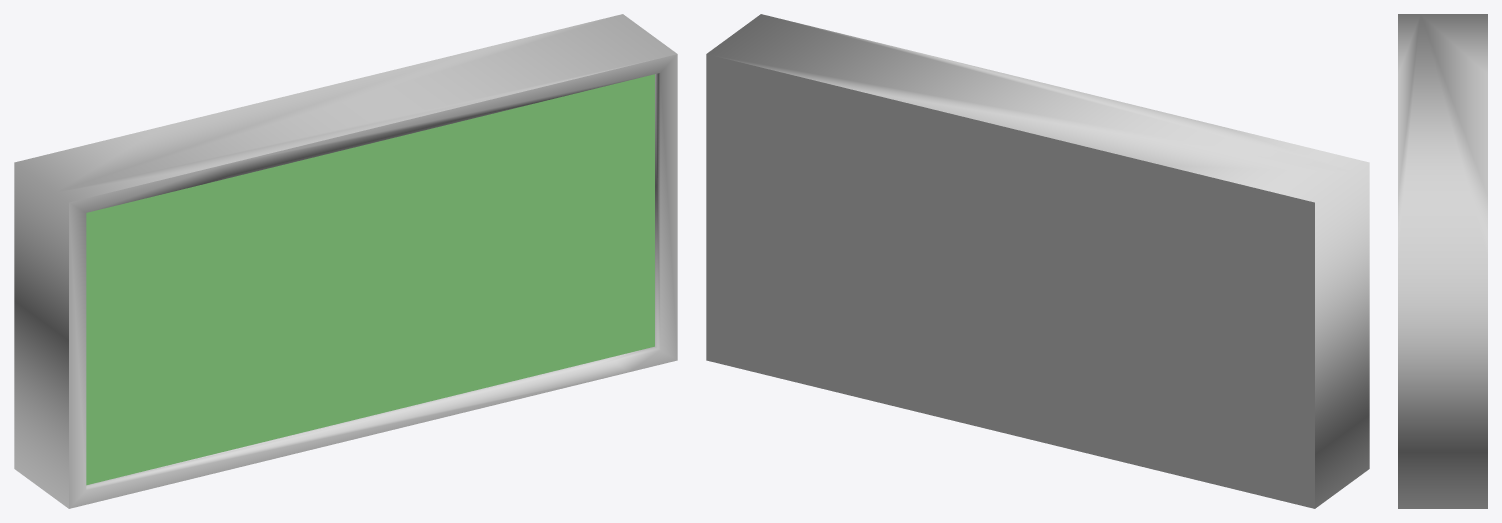
File: ExitSign.fbx
3 renders of one model, left to right at view 1: azimuth 30°, elevation 25°; view 2: azimuth 150°, elevation 25°; view 3: azimuth 270°, elevation 25°, orthographic. The views are drawn at different scales.
Visible parts, largest first — view 1: Exit; view 2: Exit; view 3: Exit.
Boxes of the visible parts, <box> form: Exit: <box>14,14,677,508</box>; Exit: <box>706,14,1369,508</box>; Exit: <box>1398,14,1487,508</box>.
Bounding box in the file's own units: 1317 × 665 × 205.
